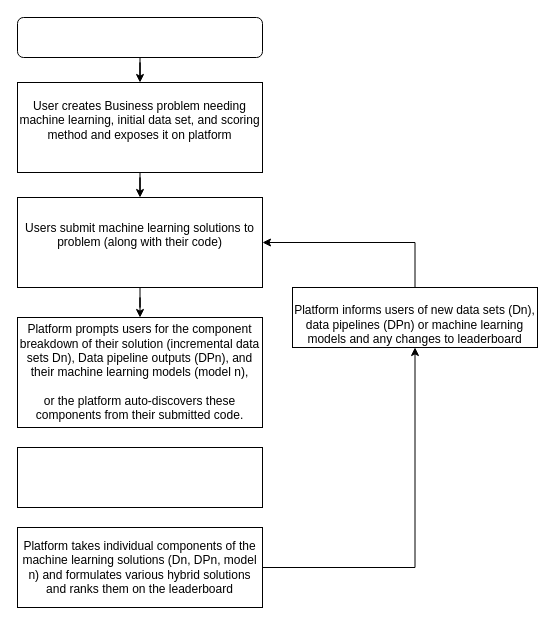
This 555x625 diagram has some shape labels left out. The shapes that lost their labels are listed below. From the top down, each one's centre as x and y in pixels, then its label:
(139,37): Start
(139,477): Platform ranks individual solutions and shows results on a leaderboard.
